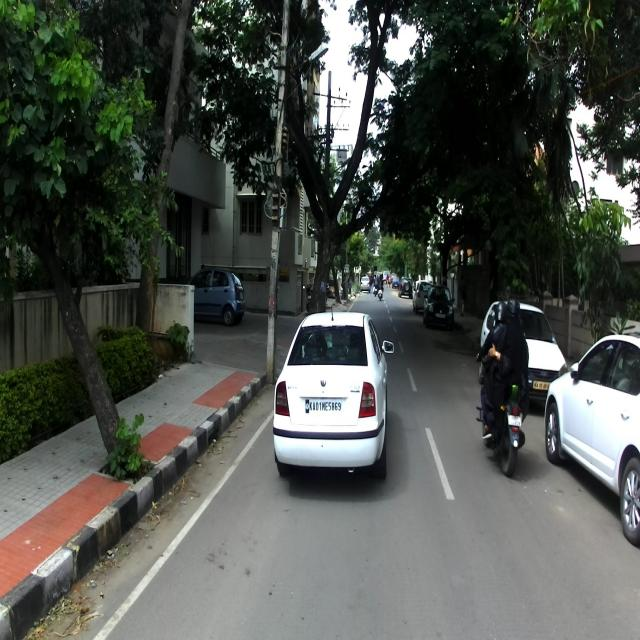Car_Skoda: (272, 304, 393, 479)
Car_TATA: (477, 298, 568, 402)
motorcycle_Yamaha: (476, 349, 526, 476)
